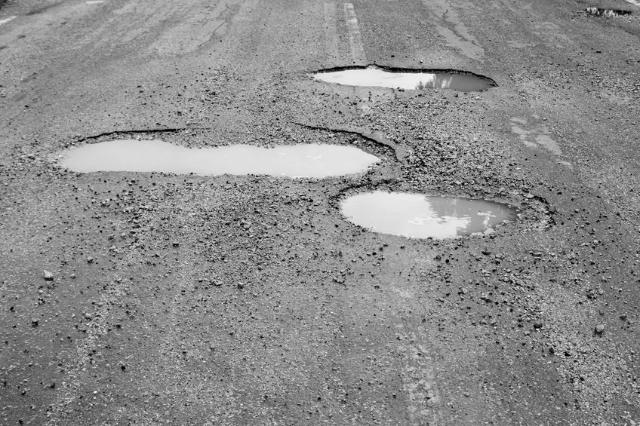Pothole: (42, 126, 394, 182), (333, 180, 524, 242), (306, 59, 500, 102)
